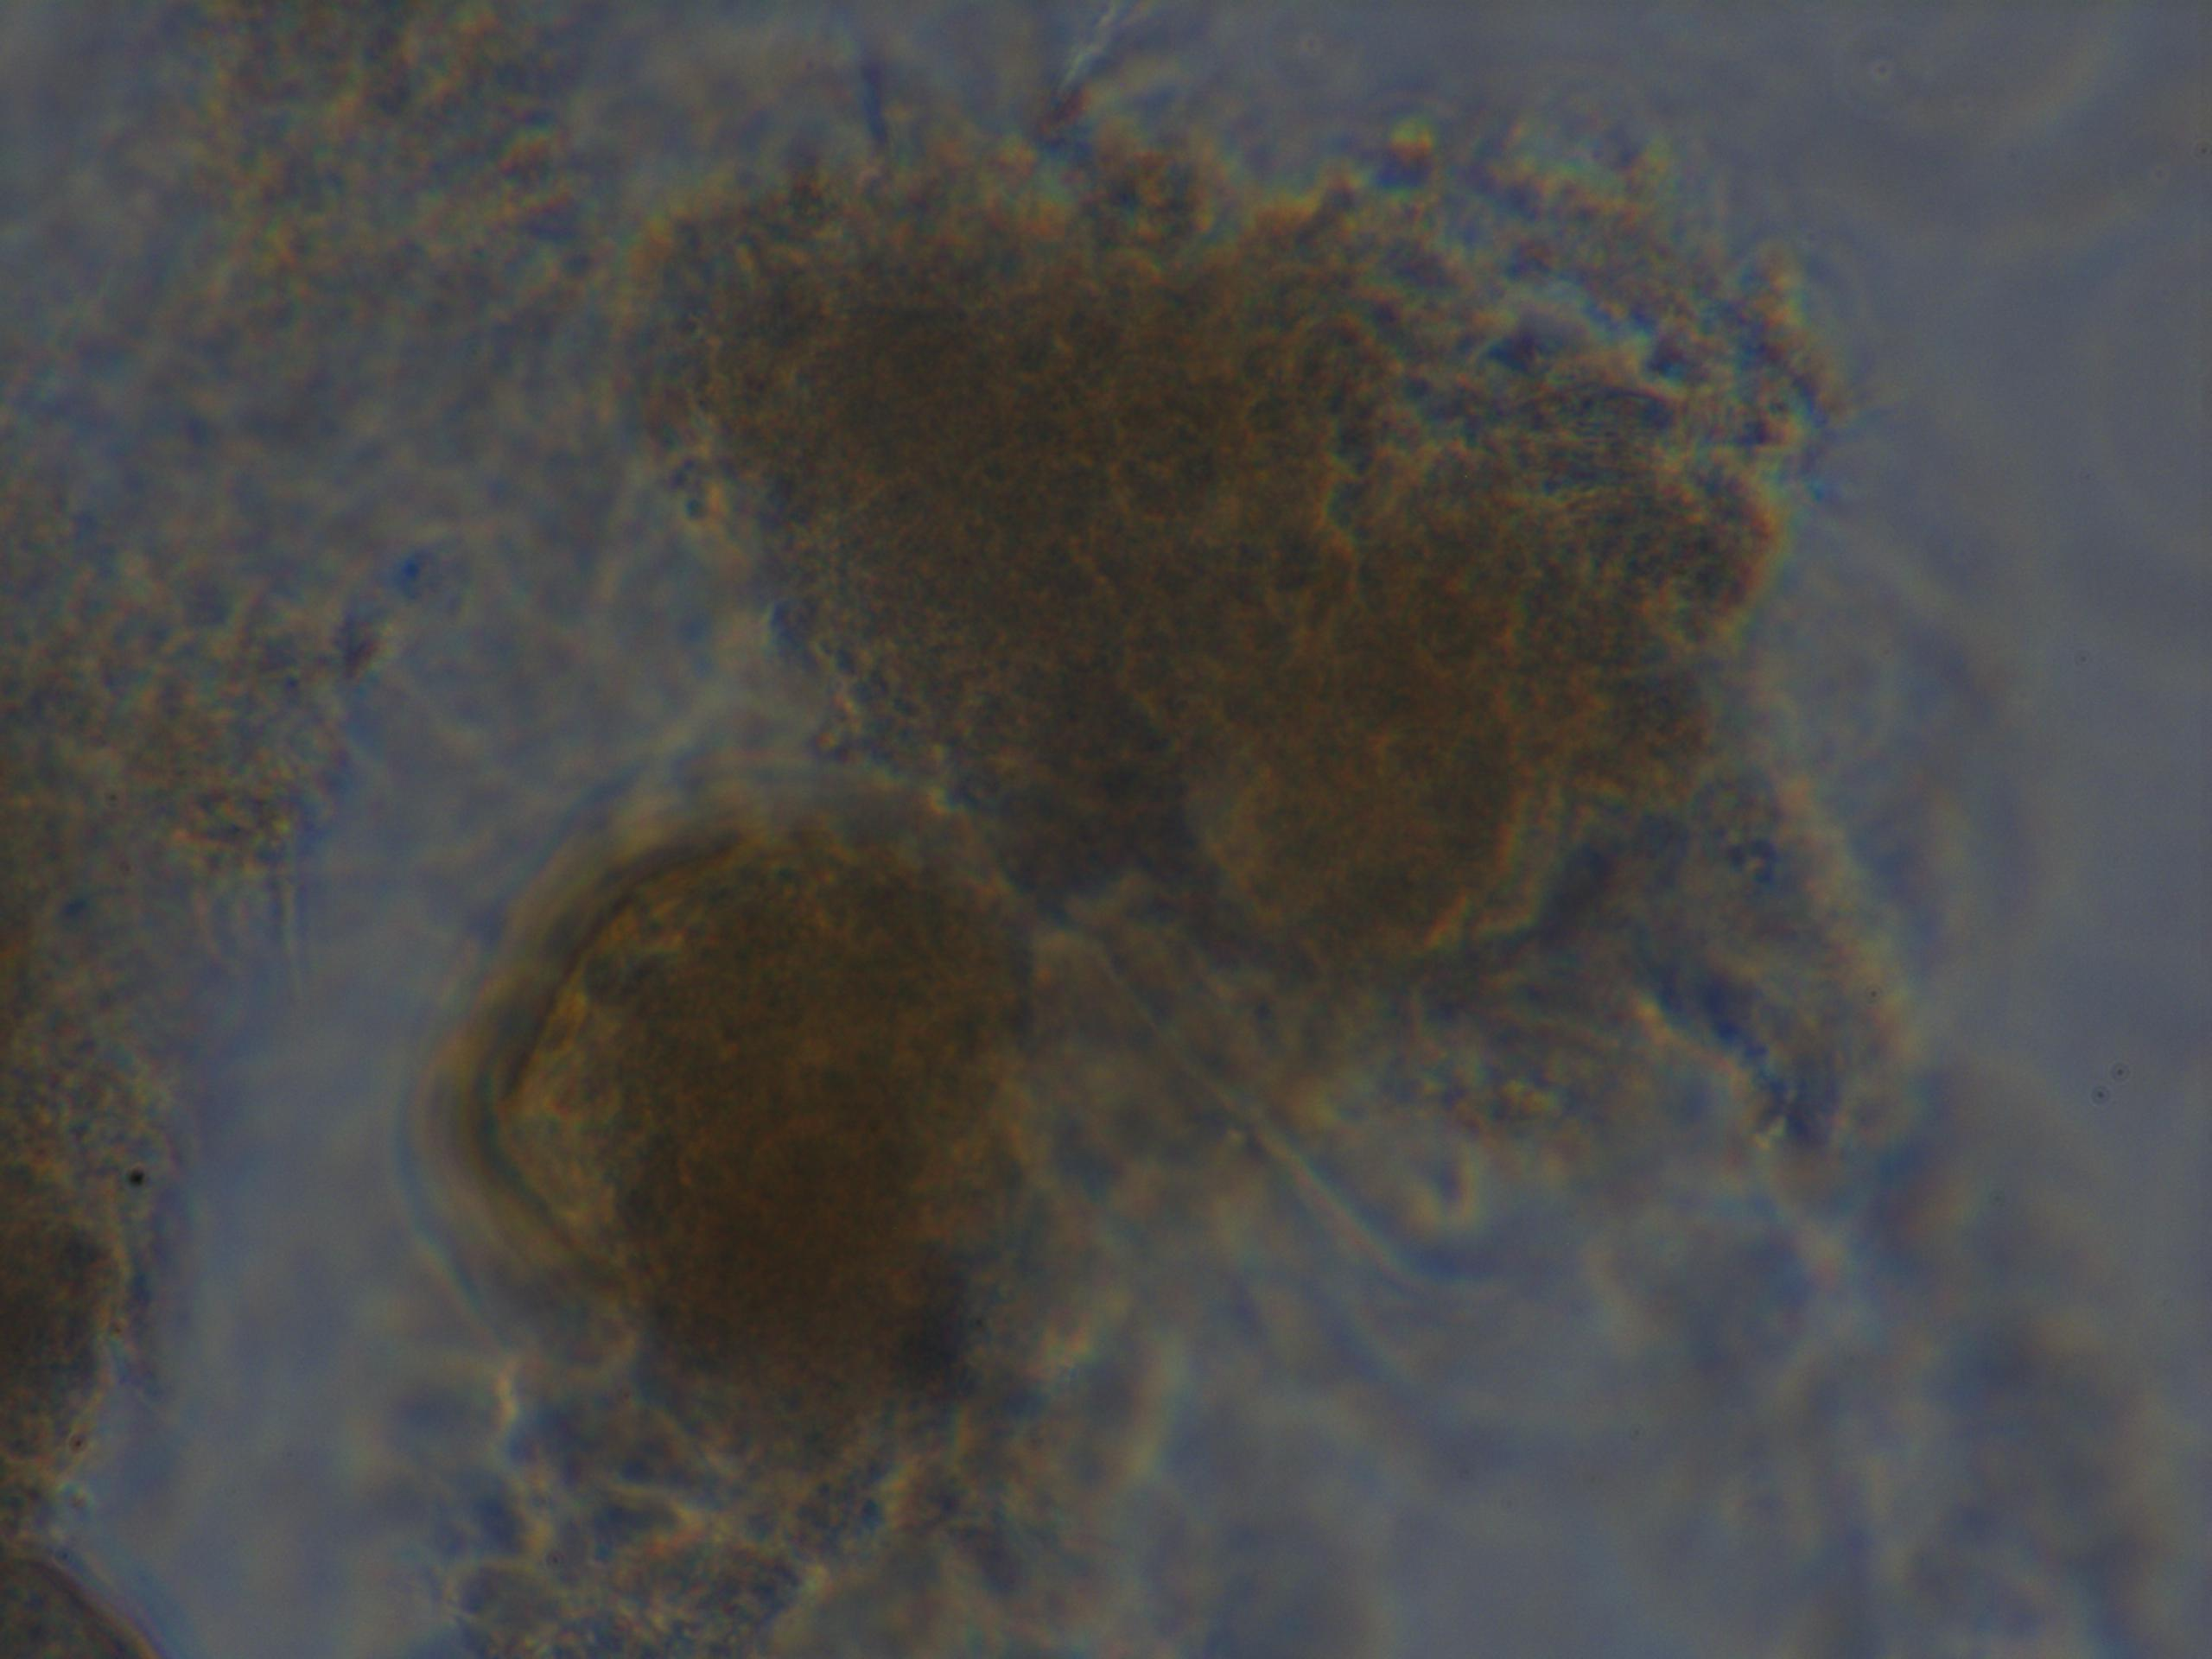spherical_floc: (622, 115, 1834, 1079)
